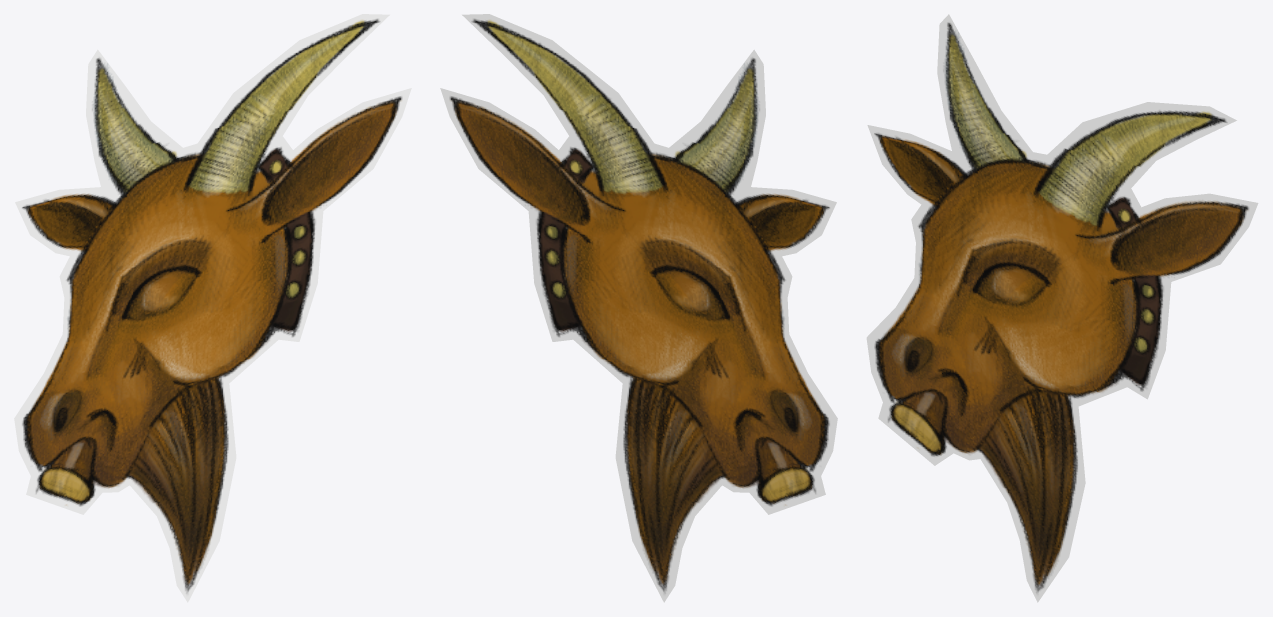
3 renders of one model, left to right at view 1: azimuth 30°, elevation 25°; view 2: azimuth 150°, elevation 25°; view 3: azimuth 330°, elevation 25°, orthographic.
Parts seen in each view (by area): view 1: Plane; view 2: Plane; view 3: Plane.
Part boxes in pixels (box(x1,y1,x2,y2)): Plane: box(14, 14, 411, 602); Plane: box(440, 14, 837, 602); Plane: box(866, 14, 1258, 602).
Bounding box in the file's own units: 2.91 × 4.02 × 0.
1 material, 1 textured.
